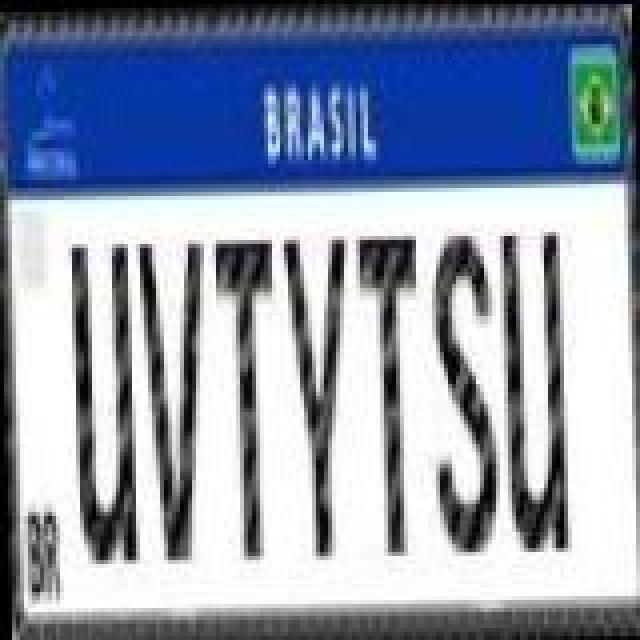S: (422, 226, 502, 554)
T: (210, 234, 282, 558), (354, 230, 426, 554)
U: (64, 236, 140, 564), (492, 224, 568, 552)
V: (134, 236, 214, 564)
Y: (278, 230, 358, 558)
